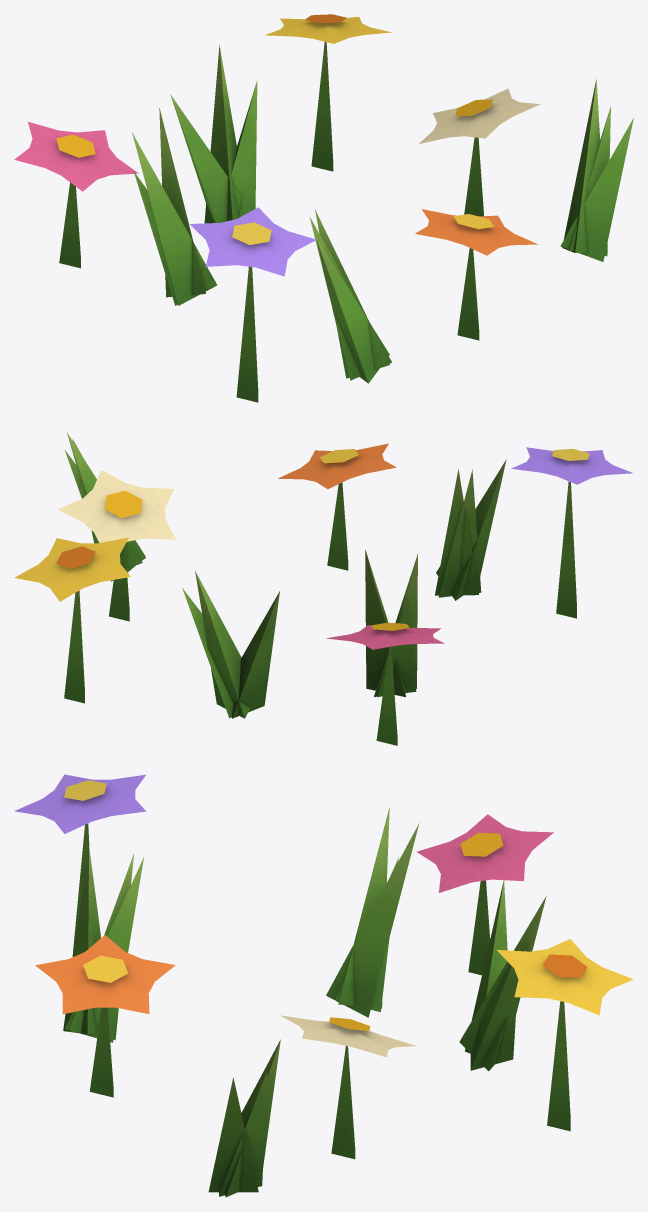
File: flowers.glb
3 renders of one model, top to bottom at view 1: azimuth 30°, elevation 25°; view 2: azimuth 150°, elevation 25°; view 3: azimuth 270°, elevation 25°, orthographic. The views are drawn at different scales.
Visible parts, largest first — view 1: flowers; view 2: flowers; view 3: flowers.
Boxes of the visible parts, x1,y1,x2,y2 form: flowers: (14, 14, 633, 402); flowers: (14, 431, 633, 745); flowers: (14, 774, 633, 1197).
Bounding box in the file's own units: 0.241 × 0.0786 × 0.2344.
Materials: 1 (1 with a texture image).
